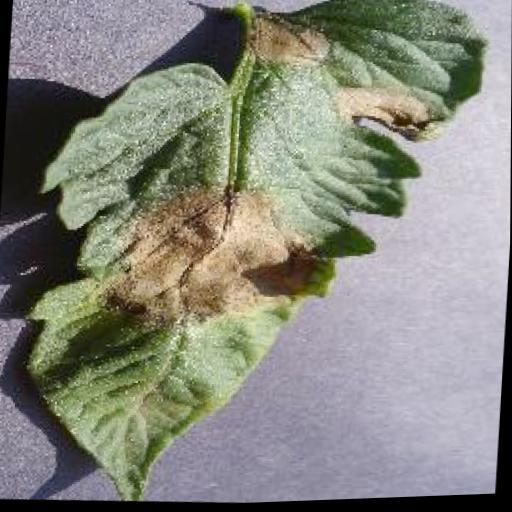Late Blight: (15, 0, 494, 511)
